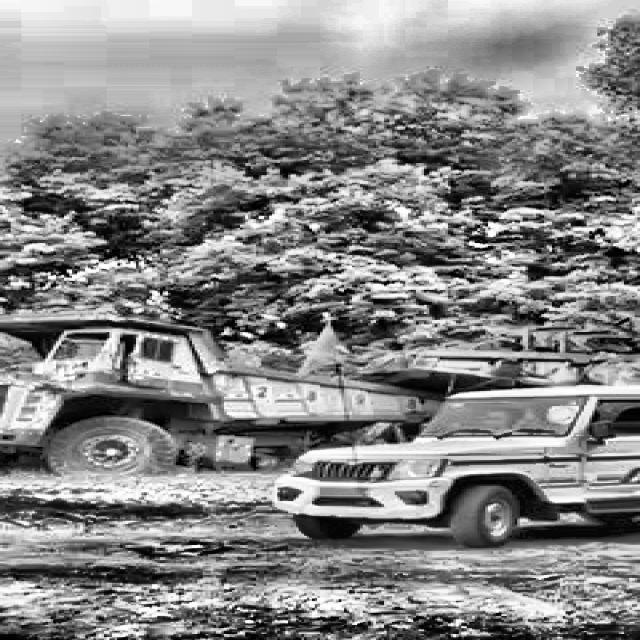light_vehicle: (285, 377, 640, 548)
